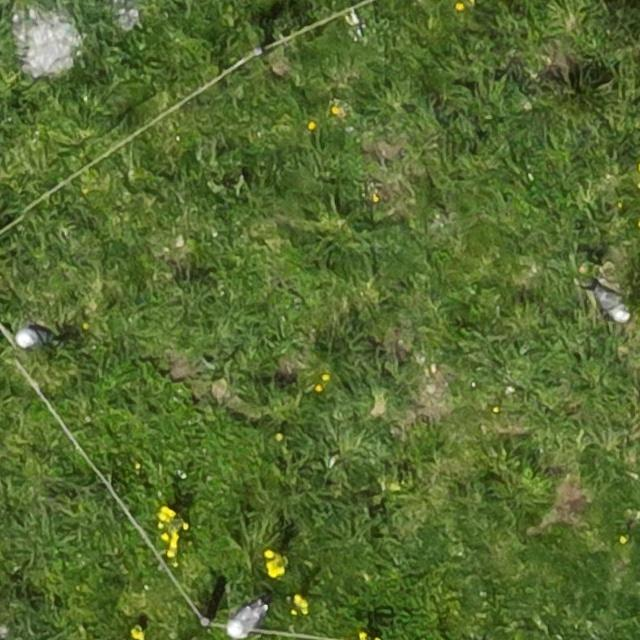umineko: (228, 605, 261, 634), (600, 291, 628, 321), (15, 328, 44, 348)
